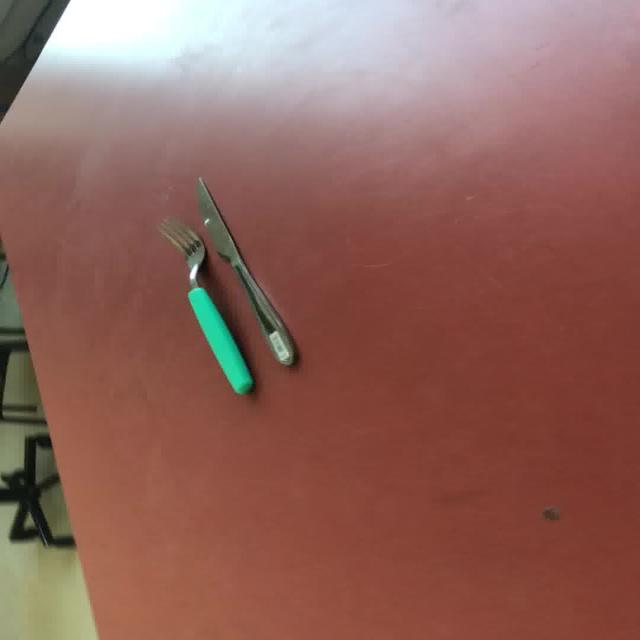fork: (156, 217, 254, 395)
knife fork: (195, 175, 297, 366)
